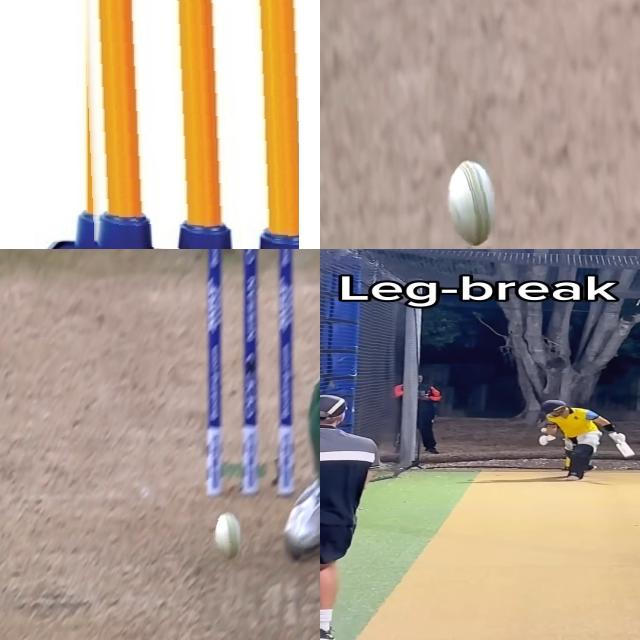Cricket ball: (444, 155, 496, 246), (213, 508, 242, 562), (541, 428, 548, 433)
Stumps: (71, 0, 299, 249)
